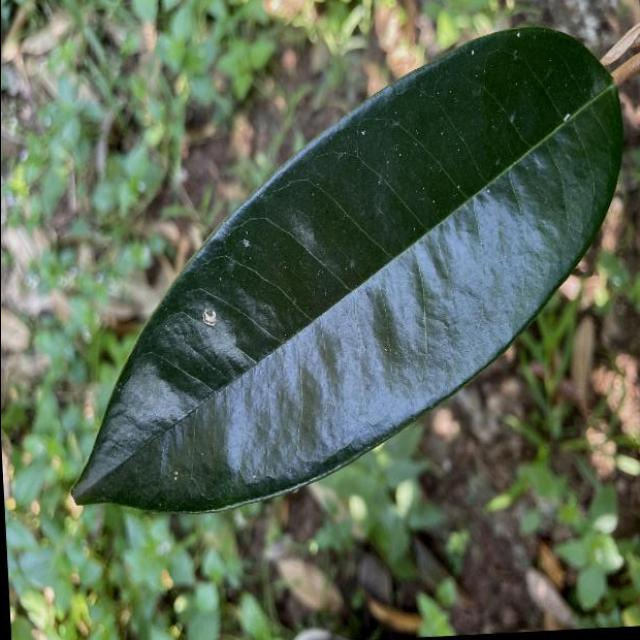No Disease: (38, 18, 640, 532)
